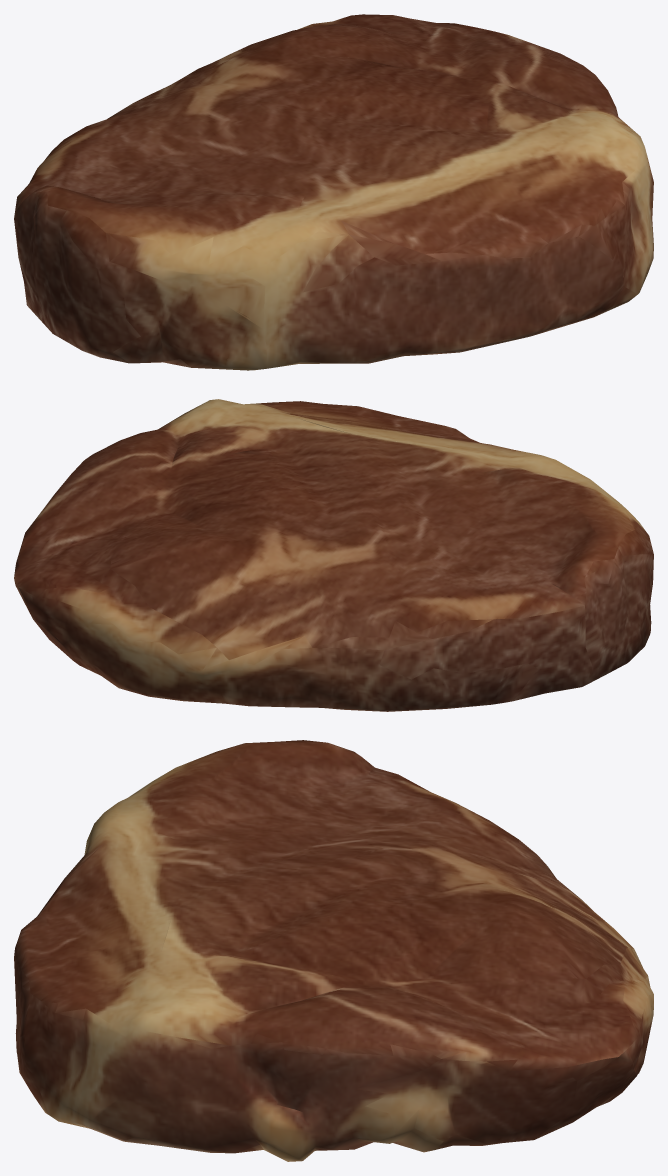
3 views of the same model, one above another, from view 1: azimuth 30°, elevation 25°; view 2: azimuth 150°, elevation 25°; view 3: azimuth 270°, elevation 25° (orthographic). The views are drawn at different scales.
Parts seen in each view (by area): view 1: mammoth-meat.001; view 2: mammoth-meat.001; view 3: mammoth-meat.001.
Part boxes in pixels (<box>): mammoth-meat.001: <box>14,14,653,370</box>; mammoth-meat.001: <box>14,399,653,711</box>; mammoth-meat.001: <box>14,740,653,1161</box>.
Bounding box in the file's own units: 0.5502 × 0.1274 × 0.4963.
1 material, 1 textured.
